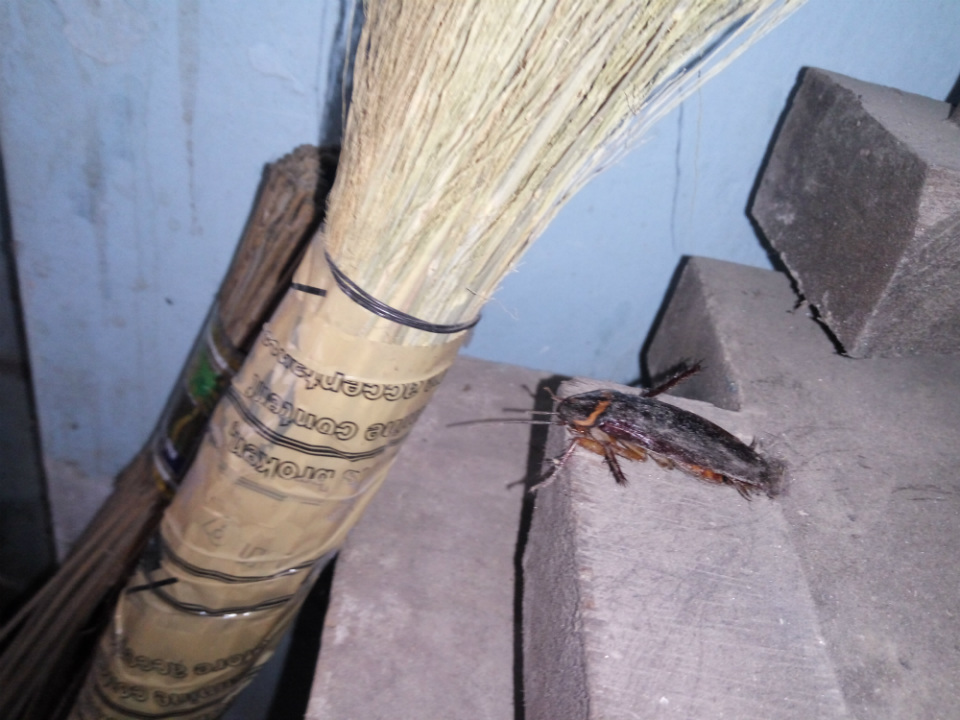cockroach: (522, 347, 788, 535)
